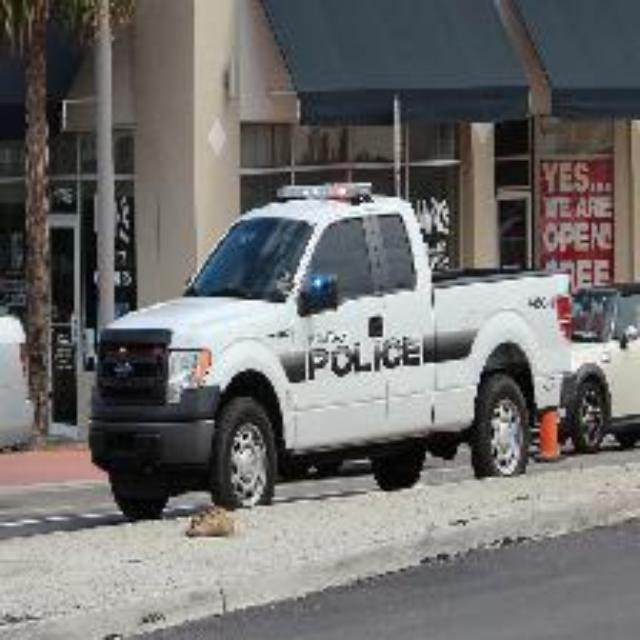emergency: (82, 176, 576, 507)
